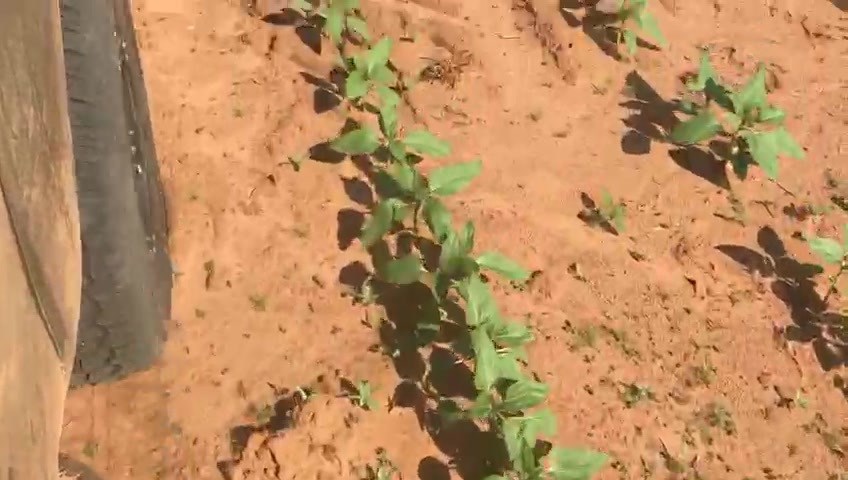sunflower: (667, 59, 792, 182), (443, 411, 612, 478), (437, 329, 558, 422), (327, 80, 455, 159), (405, 279, 541, 352), (370, 227, 531, 288), (360, 160, 472, 228), (334, 37, 402, 100), (586, 4, 665, 56), (796, 226, 840, 317)
